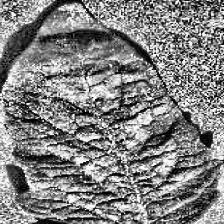spider mites: (6, 1, 223, 224)
